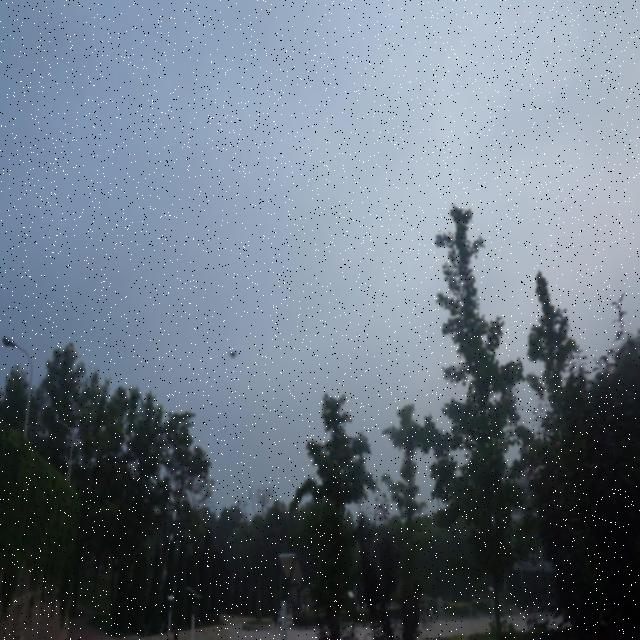UAV: (228, 351, 239, 359)
